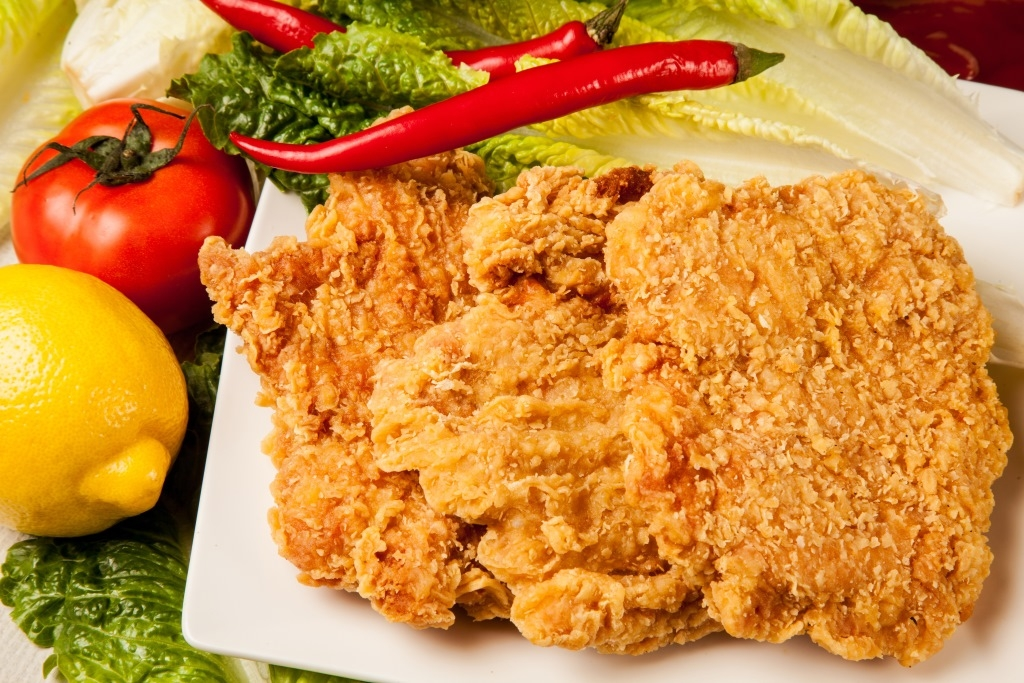fried_chicken: (651, 174, 1004, 668), (211, 151, 489, 641), (436, 170, 649, 668)
